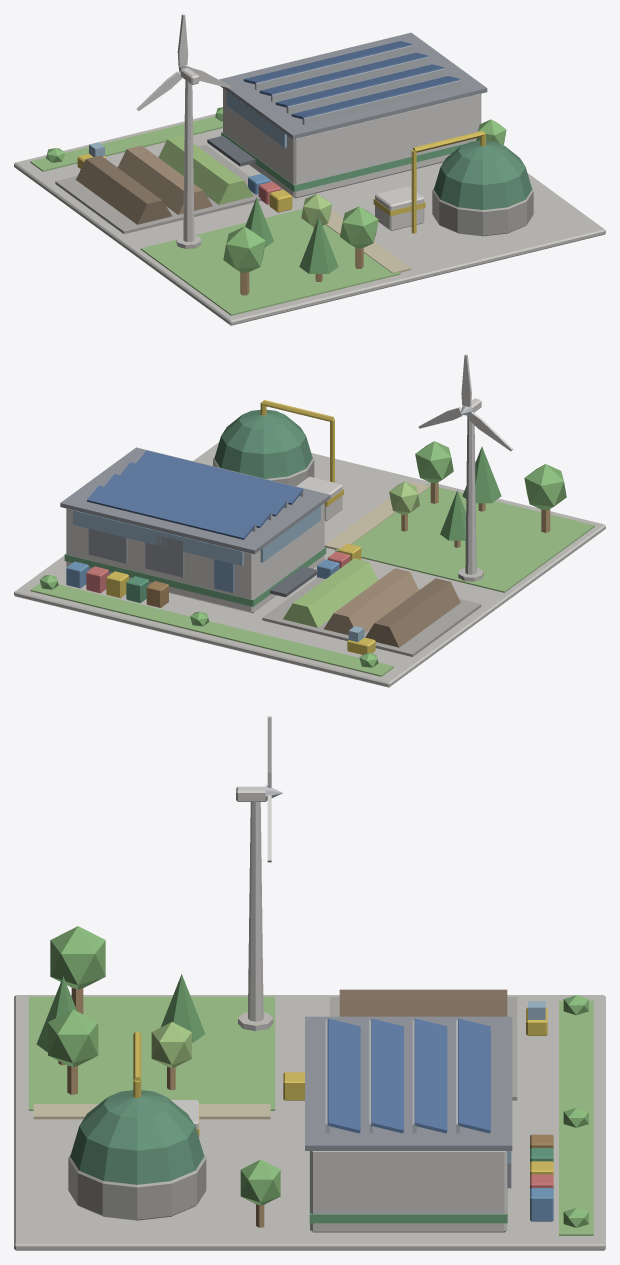
Rendered from parques__ecoparque.glb.
3 views of the same model, one above another, from view 1: azimuth 30°, elevation 25°; view 2: azimuth 150°, elevation 25°; view 3: azimuth 270°, elevation 25° (orthographic). The views are drawn at different scales.
Visible parts, largest first — view 1: parques__ecoparque; view 2: parques__ecoparque; view 3: parques__ecoparque.
Boxes of the visible parts, <box> form: parques__ecoparque: <box>14,14,605,325</box>; parques__ecoparque: <box>14,354,605,687</box>; parques__ecoparque: <box>14,716,605,1250</box>.
Size of the model in its own units: 6 by 3.53 by 6.
